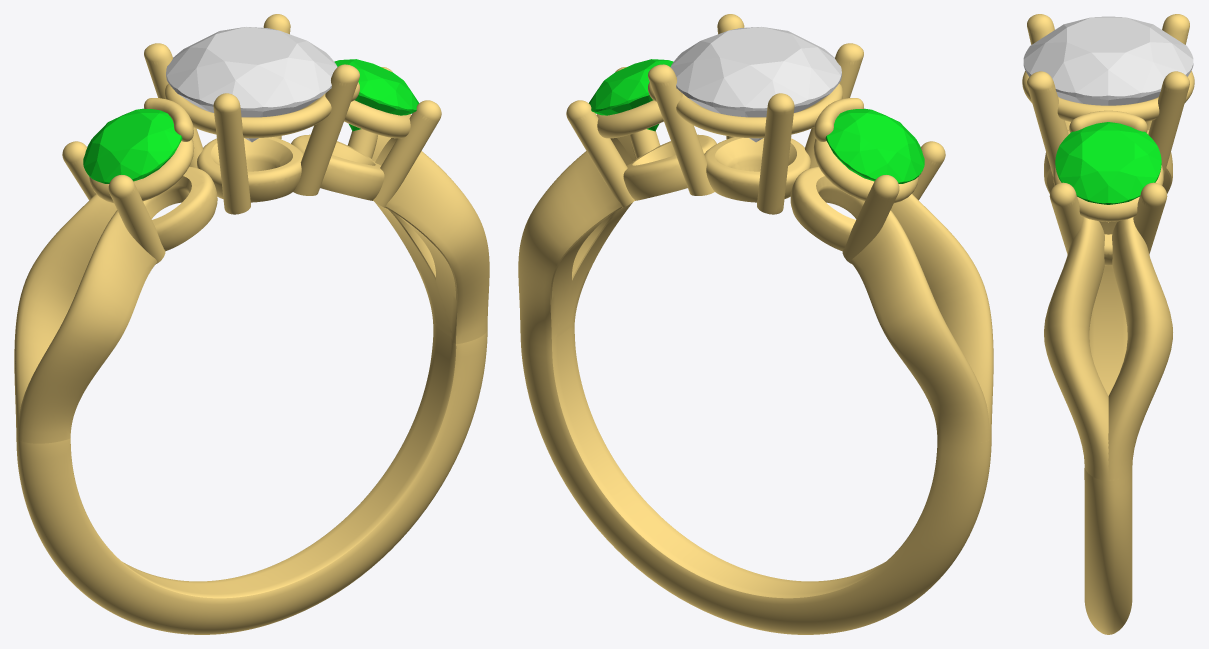
File: MitchYGV1eng_blender.glb
3 views of the same model, side by side, from view 1: azimuth 30°, elevation 25°; view 2: azimuth 150°, elevation 25°; view 3: azimuth 270°, elevation 25° (orthographic).
Parts seen in each view (by area): view 1: Mitch YG for 3d model, Mitch dia for 3d model, Mitch emerald for 3d model.001, Mitch emerald for 3d model; view 2: Mitch YG for 3d model, Mitch dia for 3d model, Mitch emerald for 3d model.001, Mitch emerald for 3d model; view 3: Mitch YG for 3d model, Mitch dia for 3d model, Mitch emerald for 3d model.
Part boxes in pixels (<box>): Mitch YG for 3d model: <box>14,14,489,634</box>; Mitch dia for 3d model: <box>166,27,337,142</box>; Mitch emerald for 3d model.001: <box>83,108,182,183</box>; Mitch emerald for 3d model: <box>334,59,418,131</box>; Mitch YG for 3d model: <box>518,14,993,634</box>; Mitch dia for 3d model: <box>670,27,841,142</box>; Mitch emerald for 3d model.001: <box>825,108,924,183</box>; Mitch emerald for 3d model: <box>589,59,673,131</box>; Mitch YG for 3d model: <box>1022,14,1194,634</box>; Mitch dia for 3d model: <box>1023,16,1193,105</box>; Mitch emerald for 3d model: <box>1055,122,1161,204</box>.
Size of the model in its own units: 20.1 by 23.89 by 6.49.
